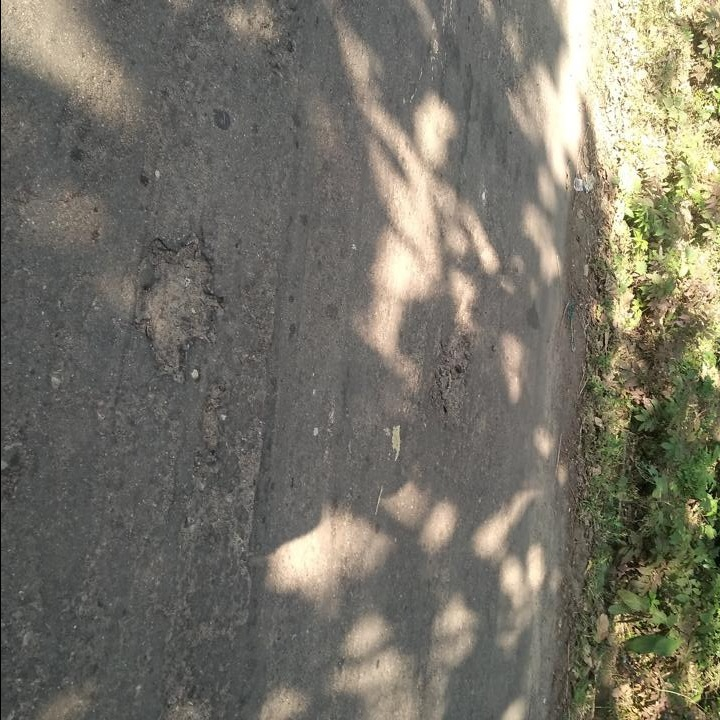pothole: (131, 229, 226, 377), (429, 329, 478, 429)
